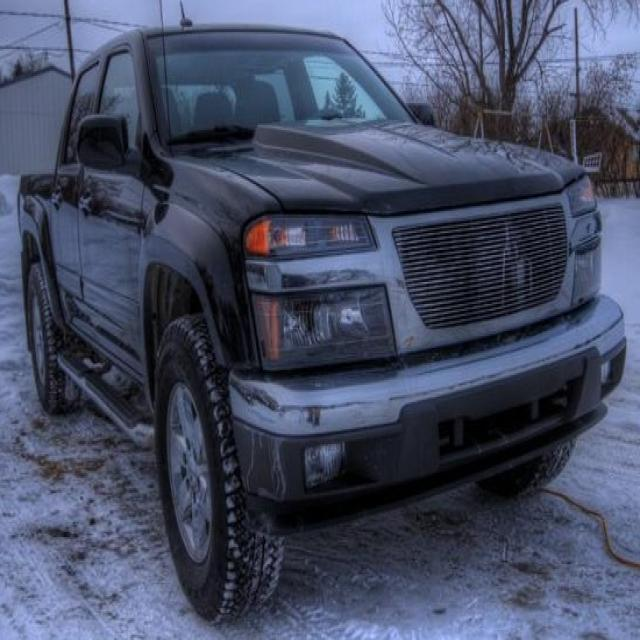CMT: (14, 7, 620, 599)
